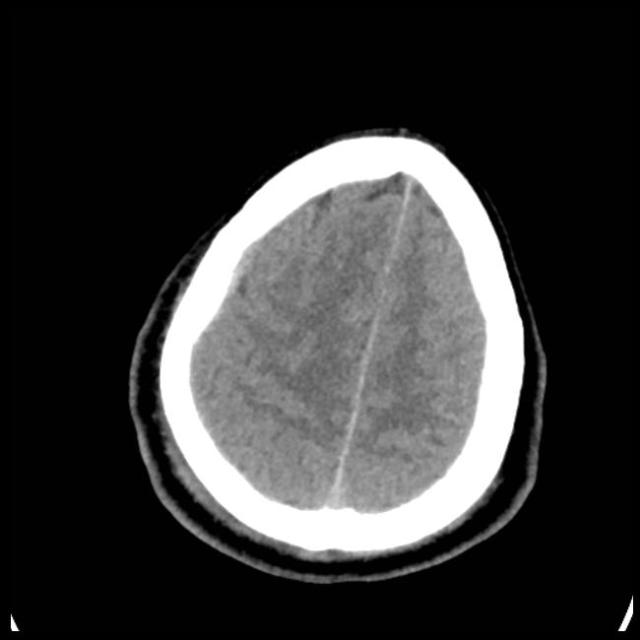lesion: (125, 123, 550, 585)
